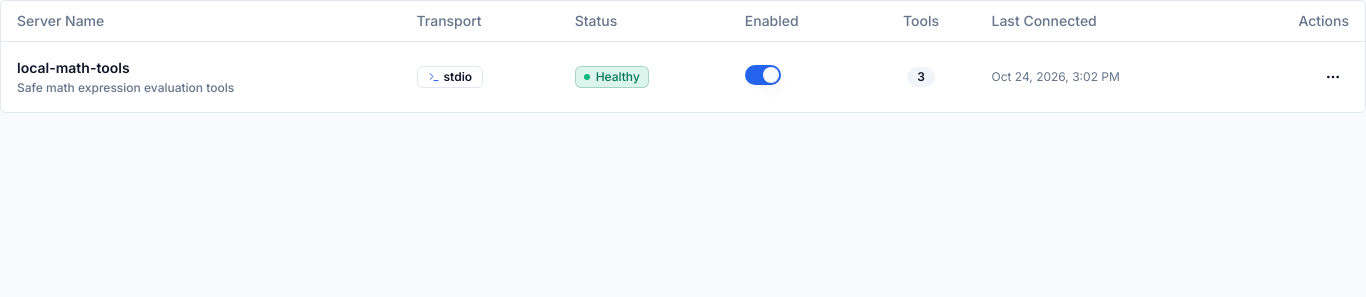
Test case: ServerListTable Component › row menu of a healthy server has no Connect or Disconnect
Step 1. Click the button named "Open menu" → (1333, 76), box [1317, 60, 1349, 92]
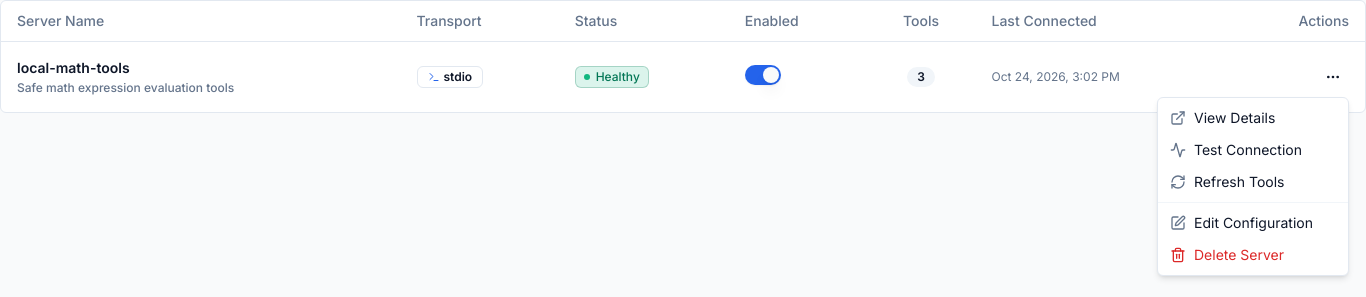
expect the menu item "Refresh Tools" is shown: met, box [1170, 173, 1284, 190]
expect the menu item "Test Connection" is shown: met, box [1170, 141, 1302, 158]
